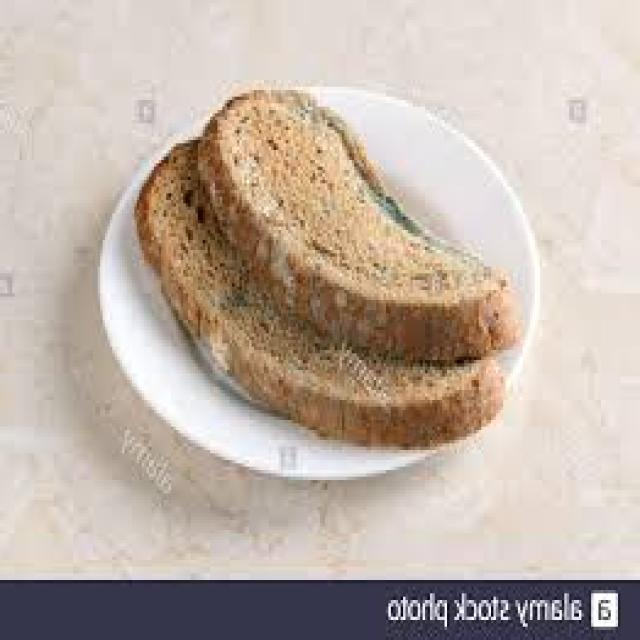organic: (212, 103, 470, 414)
